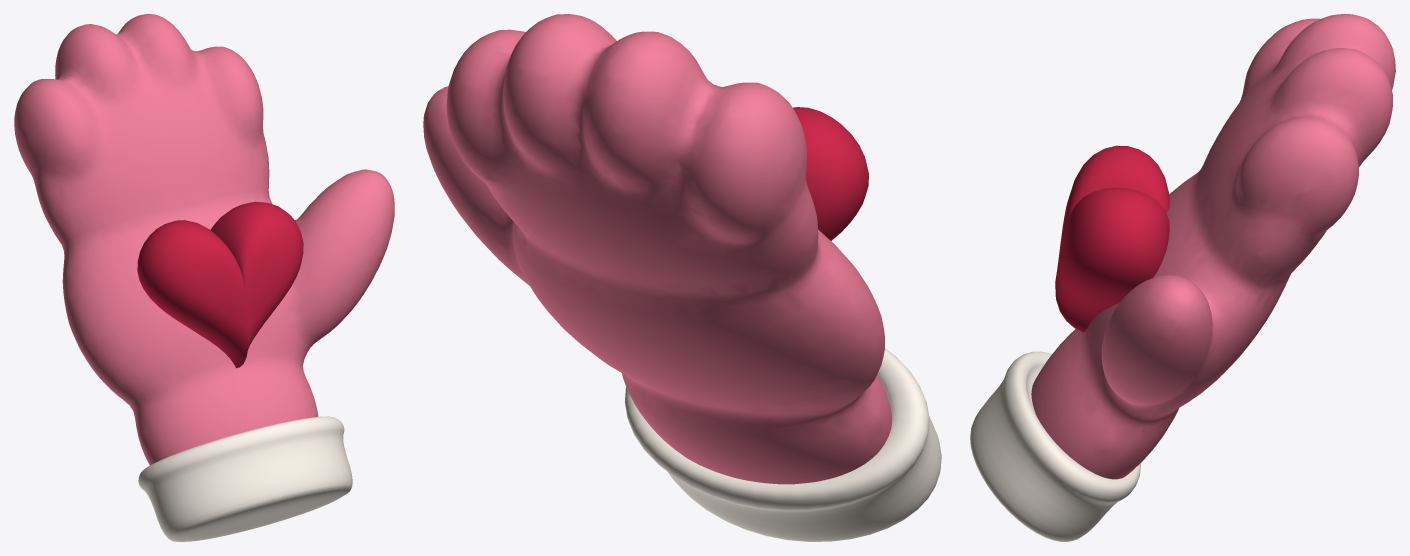
Rendered from 08-helping-hand.glb.
The picture shows the model from 3 angles, left to right: view 1: azimuth 30°, elevation 25°; view 2: azimuth 150°, elevation 25°; view 3: azimuth 270°, elevation 25°; orthographic projection. The views are drawn at different scales.
Parts seen in each view (by area): view 1: HelpingHand; view 2: HelpingHand; view 3: HelpingHand.
Boxes of the visible parts, x1,y1,x2,y2 form: HelpingHand: (14,14,394,541); HelpingHand: (423,14,941,541); HelpingHand: (970,14,1395,541).
Size of the model in its own units: 0.9054 by 1.2 by 0.9505.
